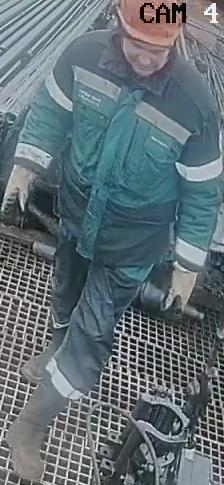gloves: (162, 259, 202, 316), (0, 160, 42, 214)
helmet: (112, 0, 185, 55)
vest: (57, 61, 195, 266)
